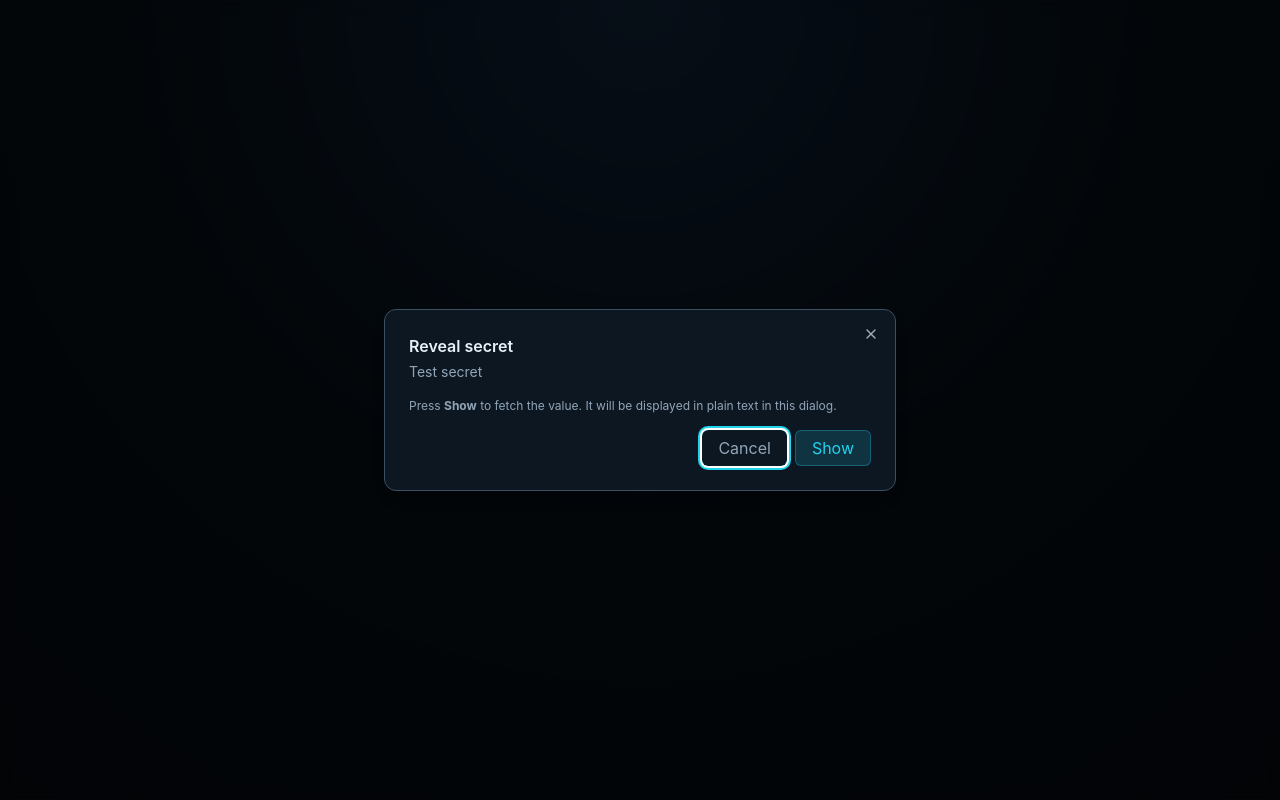
Scenario: RevealSecretView › reports a missing secret separately
The width and height of the screenshot is (1280, 800).
Click the button "Show".
click(833, 448)  # box [795,430,871,466]
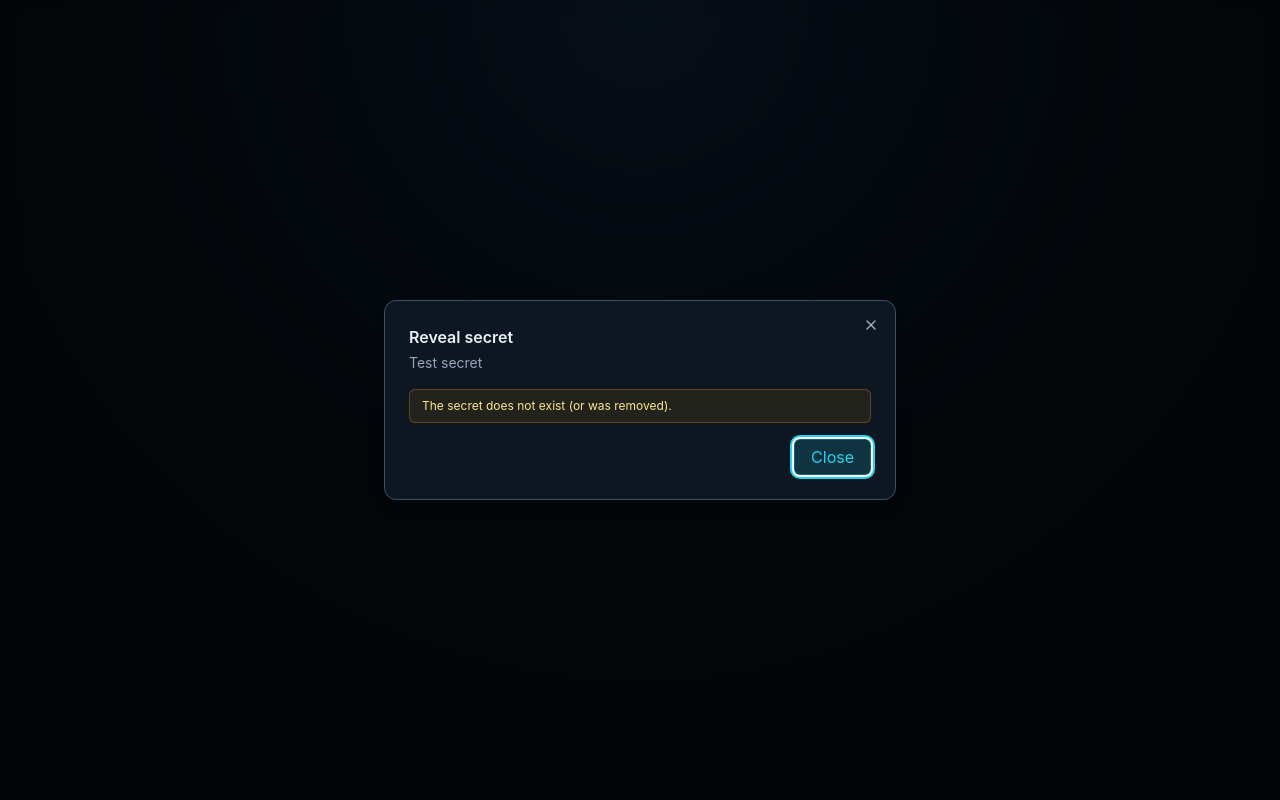
Now the text "The secret does not exist (or was removed)." is shown, box [409,389,871,423]
